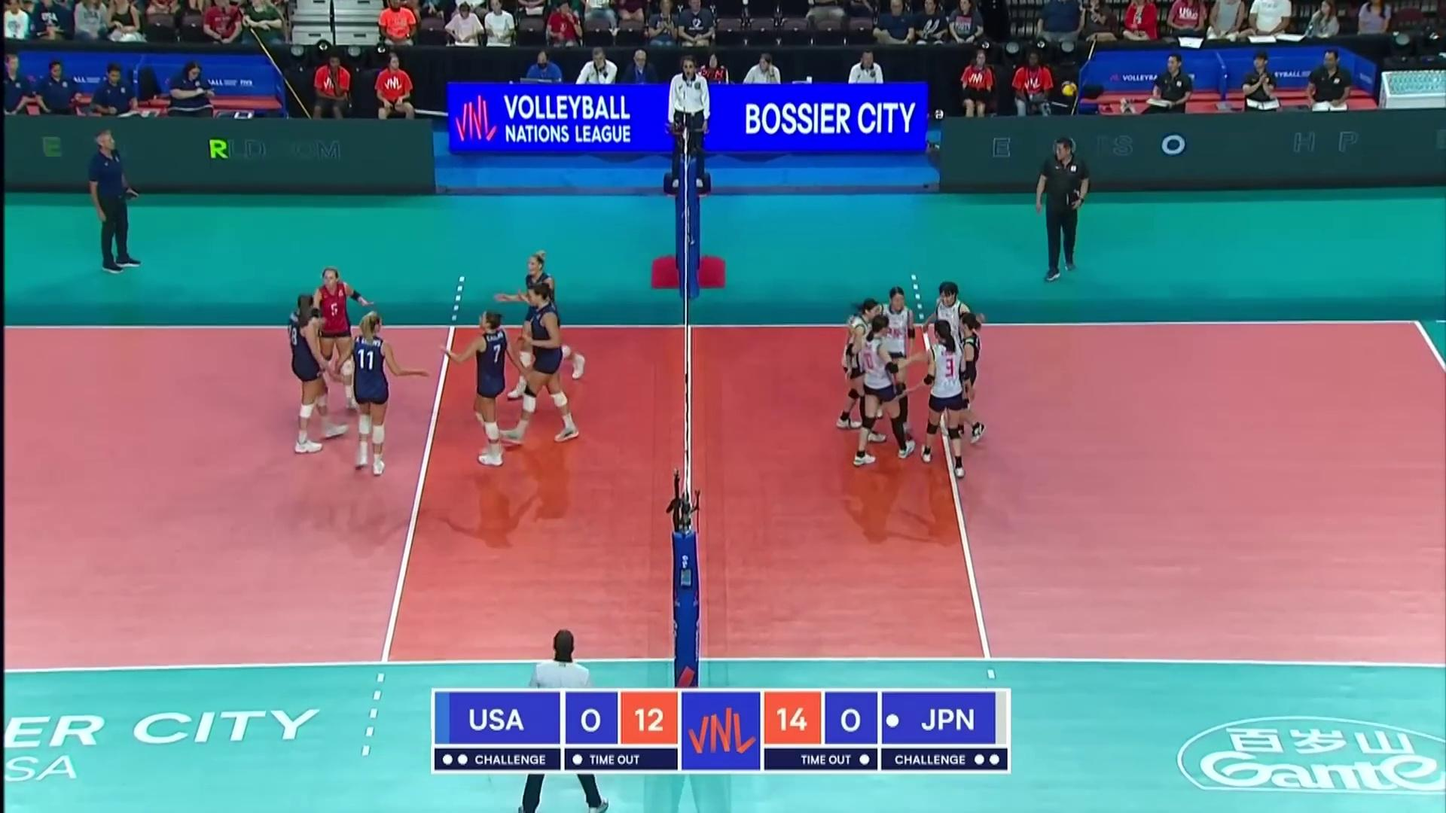player: (329, 312, 409, 483), (503, 256, 583, 400), (453, 308, 520, 467), (285, 291, 350, 451), (517, 288, 580, 449), (855, 320, 911, 464), (917, 317, 966, 478), (835, 298, 887, 444), (314, 270, 362, 410), (875, 289, 921, 434), (933, 280, 977, 430), (942, 315, 989, 448)
refree: (512, 625, 606, 813), (666, 55, 710, 188)
